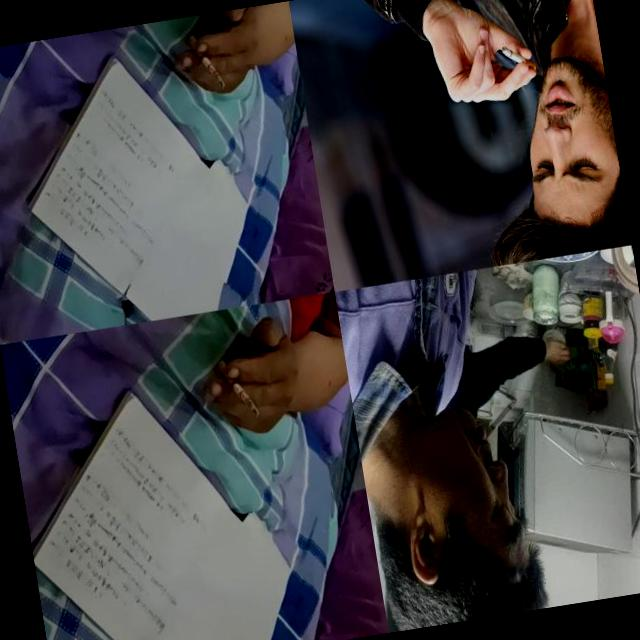smoke: (214, 353, 261, 423), (186, 31, 226, 92), (479, 398, 522, 441), (500, 43, 540, 78)
